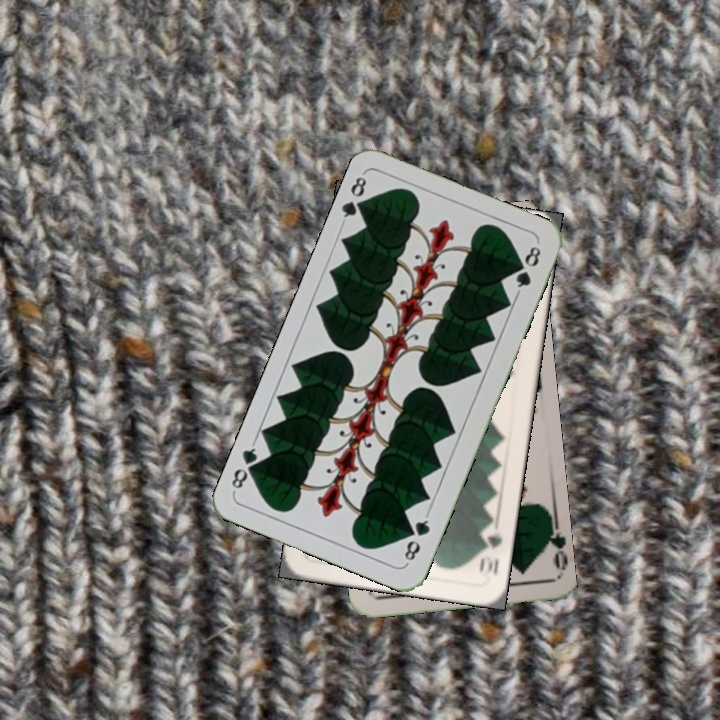G10: (475, 531, 504, 581)
G8: (337, 170, 372, 226), (400, 510, 433, 566)
GO: (538, 514, 567, 573)
